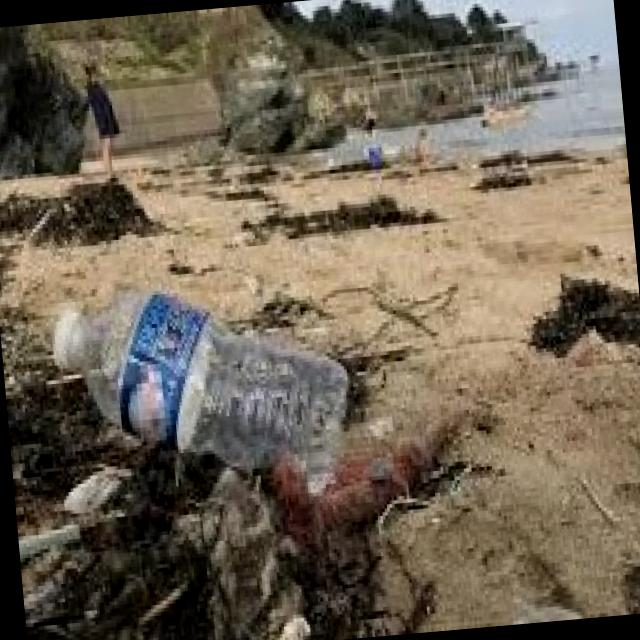garbage: (15, 256, 402, 555)
